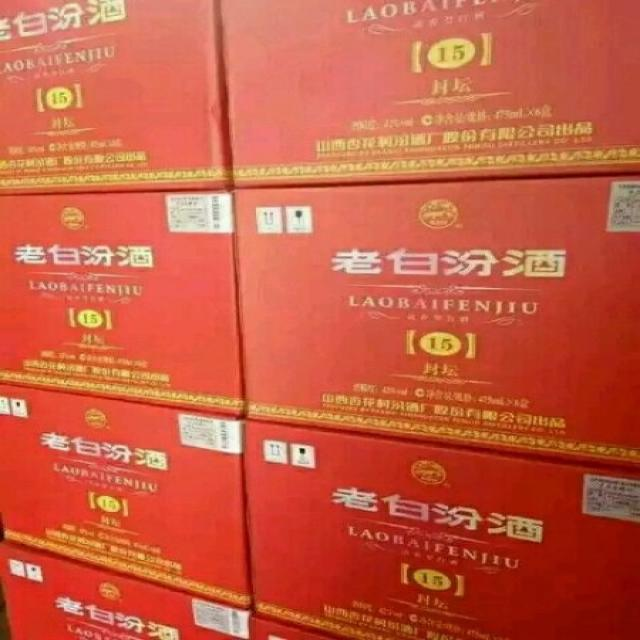box: (232, 173, 640, 468), (245, 418, 640, 640), (218, 0, 640, 189), (0, 386, 250, 608), (0, 191, 245, 417), (0, 1, 232, 196), (1, 542, 253, 640), (249, 610, 348, 640)
